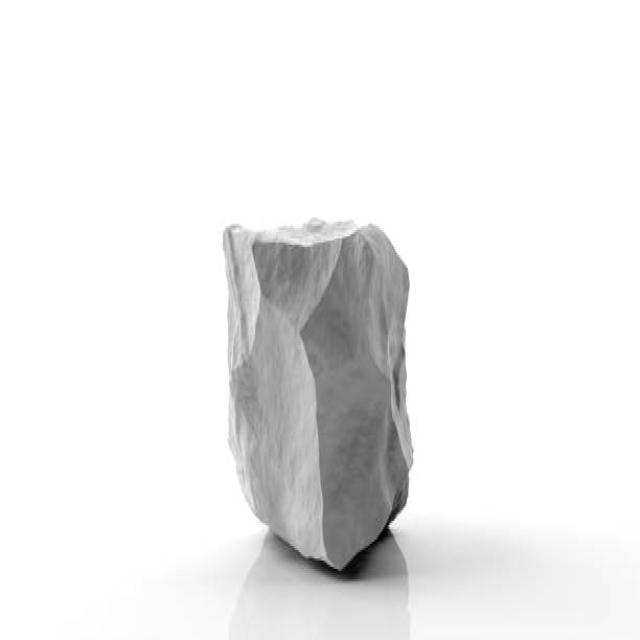Metamorphic: (217, 209, 428, 577)
